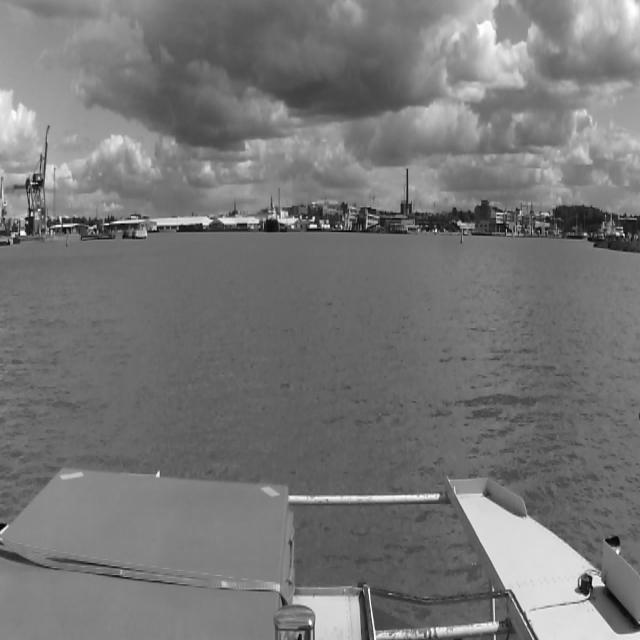buoy: (461, 229, 463, 243)
ship: (124, 223, 148, 241), (266, 202, 278, 234)
